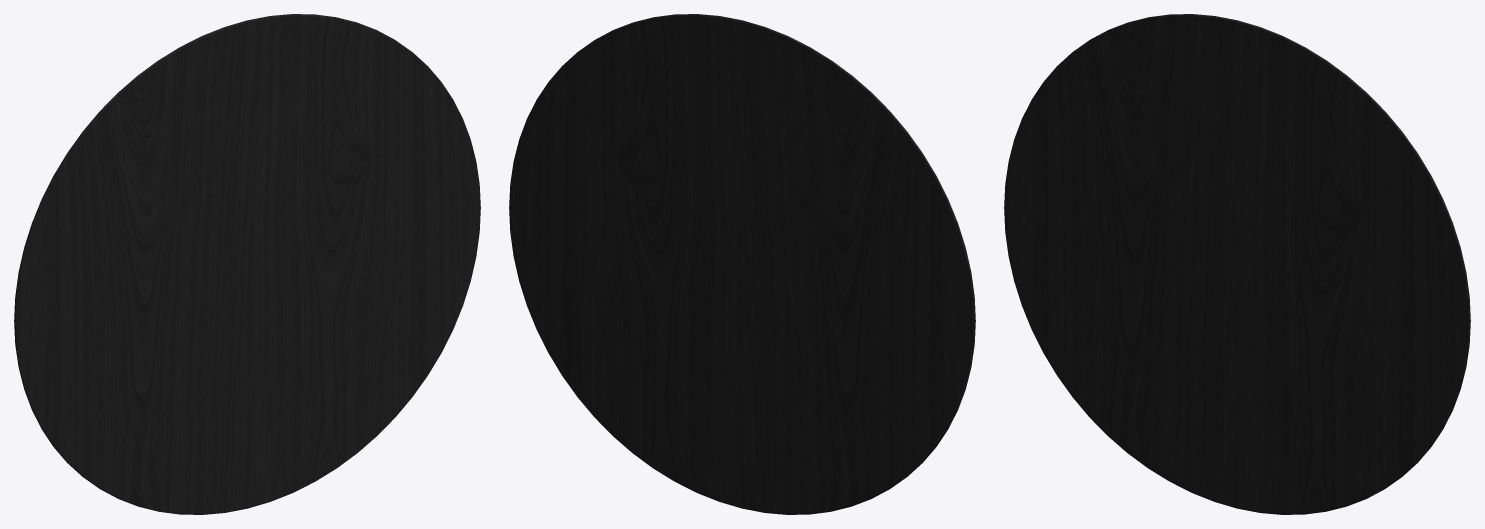
File: l113_wood_button.glb
The picture shows the model from 3 angles, left to right: view 1: azimuth 30°, elevation 25°; view 2: azimuth 150°, elevation 25°; view 3: azimuth 330°, elevation 25°; orthographic projection.
Parts seen in each view (by area): view 1: L56_wood_button; view 2: L56_wood_button; view 3: L56_wood_button.
Boxes of the visible parts, <box> form: L56_wood_button: <box>14,14,480,514</box>; L56_wood_button: <box>509,14,975,514</box>; L56_wood_button: <box>1004,14,1470,514</box>.
Size of the model in its own units: 0.4 by 0.4 by 0.002.
Materials: 4 (4 with a texture image).
